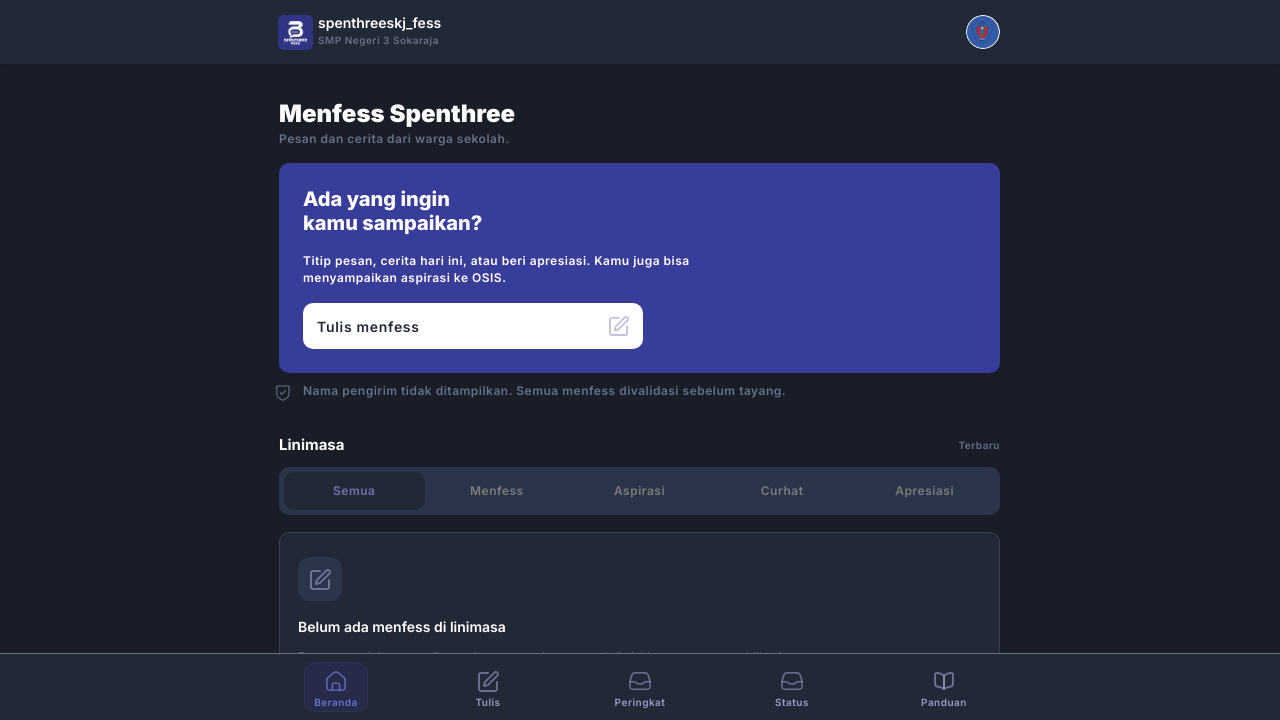
preserved menfess integration › loads and filters an empty published feed without direct table access
Expected: the heading "Belum ada menfess di linimasa" is shown, [298,618,506,635]
Click the button "Aspirasi". click: (640,491)
box: [569,472,710,510]
(page scrolled)
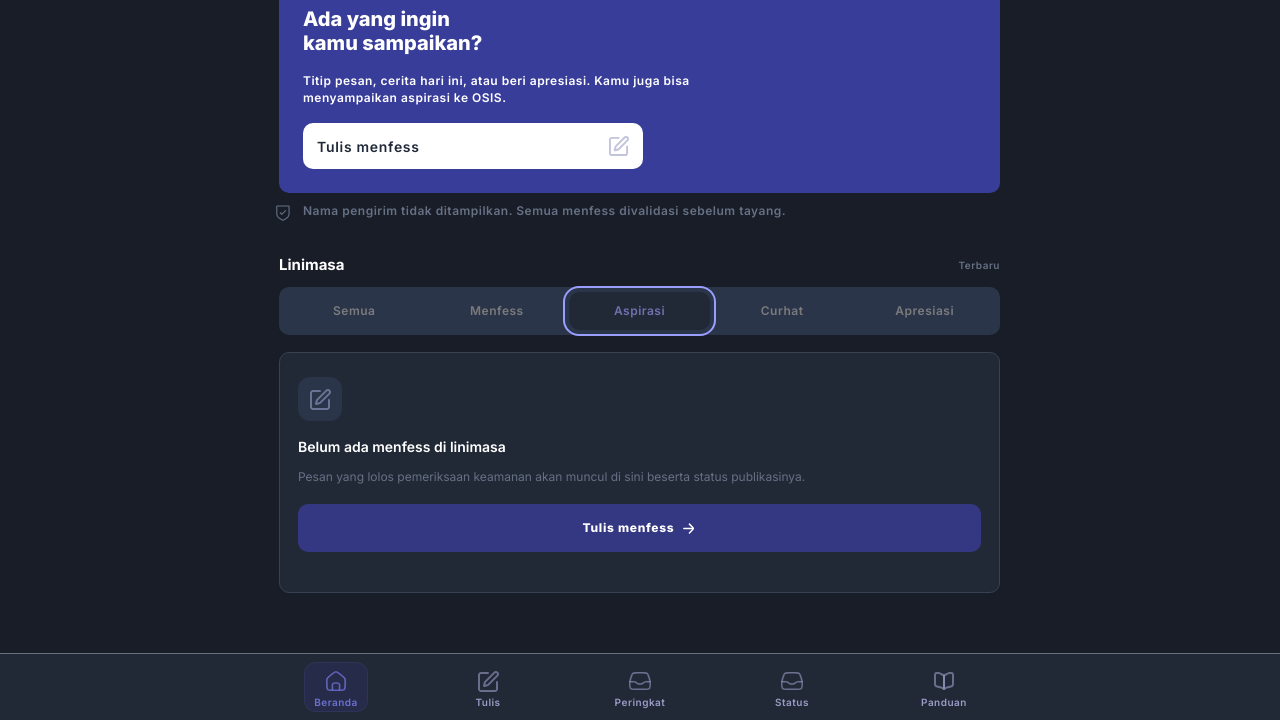
Expected: the heading "Belum ada menfess di linimasa" is shown, [298,438,506,455]
Now the button "Aspirasi" is pressed, box [569,292,710,330]
Click the link "Tulis menfess" below "Belum ada menfess di linimasa". click: (640,528)
box: [298,504,981,552]
(page scrolled)
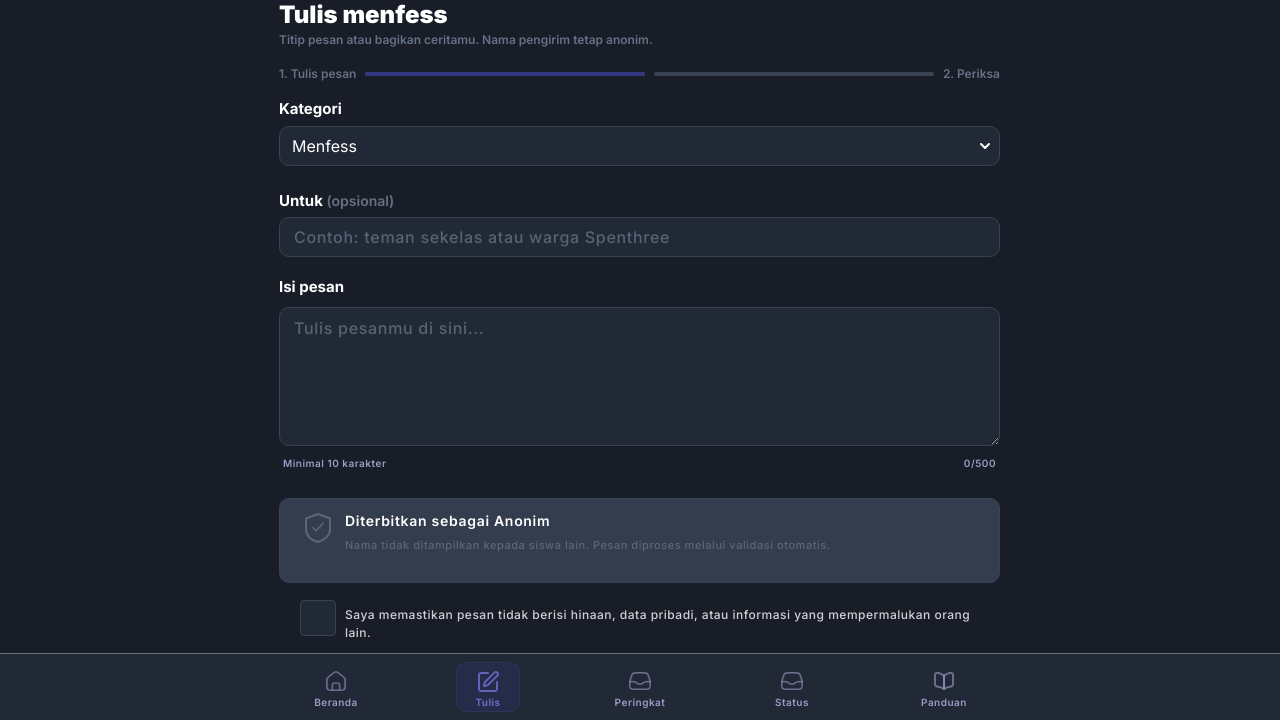
Now the heading "Tulis menfess" is shown, box [279,0,448,29]
